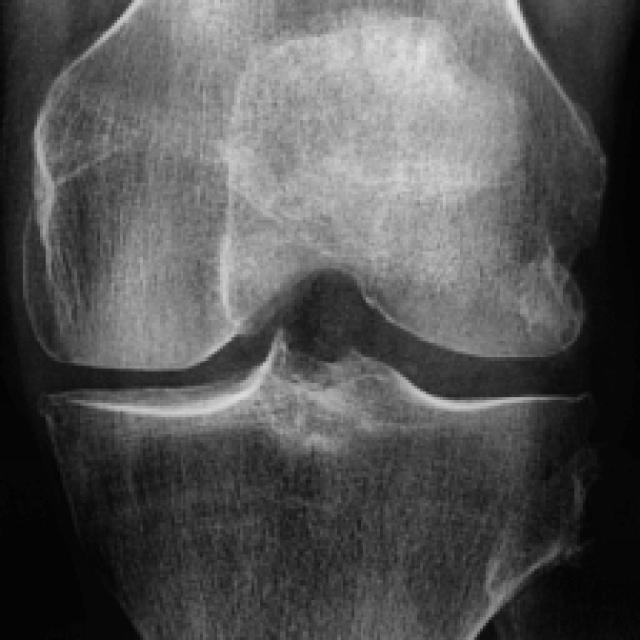femur: (21, 0, 600, 370)
tibia: (46, 337, 586, 640)
